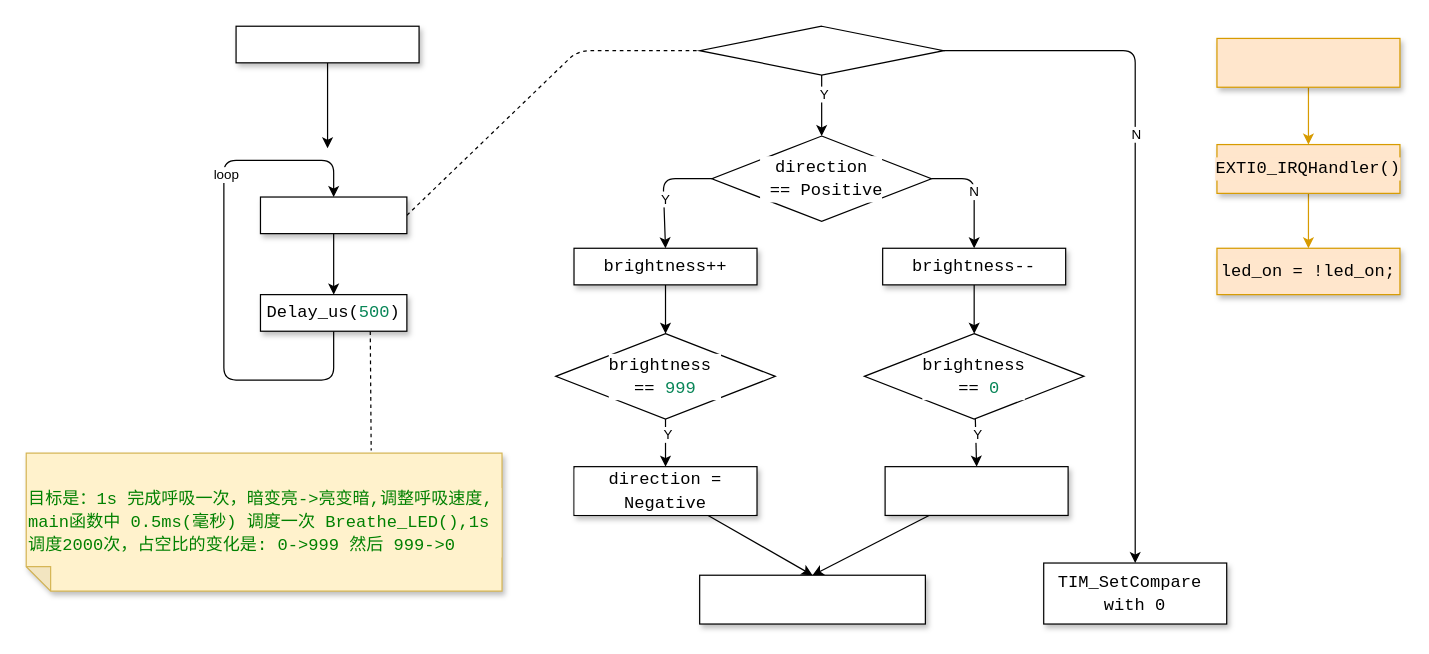
The diagram is 1429 pixels wide and 654 high, and some of its shapes have lost their labels. Each missing label, with the centre of its shape:
"Breathe_LED()" goes at (x=334, y=216).
"direction = Positive" goes at (x=977, y=492).
"led_on == true" goes at (x=821, y=50).
"Resource_Init()" goes at (x=328, y=45).
"TIM_SetCompare with new brightness" goes at (x=813, y=601).
"外部按钮触发中断" goes at (x=1309, y=64).
